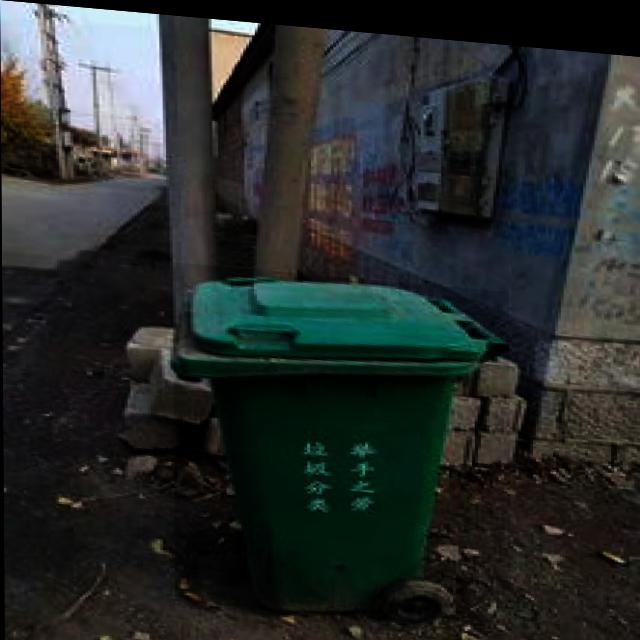garbage_bin: (172, 259, 510, 621)
